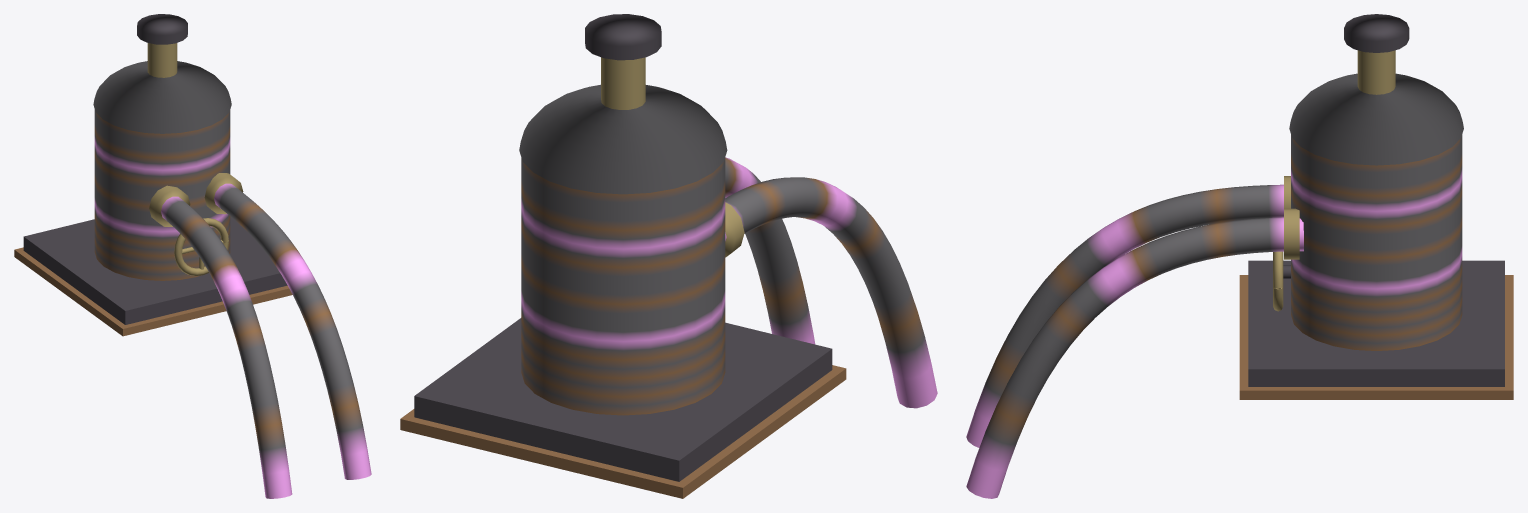
The model's file is darkpump.glb.
The picture shows the model from 3 angles, left to right: view 1: azimuth 30°, elevation 25°; view 2: azimuth 150°, elevation 25°; view 3: azimuth 270°, elevation 25°; orthographic projection. The views are drawn at different scales.
Visible parts, largest first — view 1: darkpump; view 2: darkpump; view 3: darkpump.
Part boxes in pixels (x1,y1,x2,y2): darkpump: [14, 14, 371, 498]; darkpump: [400, 14, 937, 498]; darkpump: [966, 14, 1513, 498].
Bounding box in the file's own units: 3.84 × 6.85 × 7.67.
Materials: 1 (1 with a texture image).
